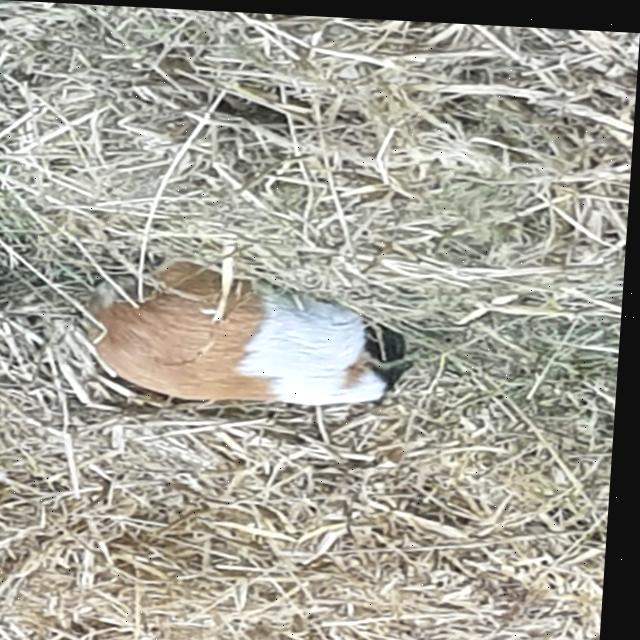guinea pig: (96, 250, 419, 413), (0, 443, 13, 505)
